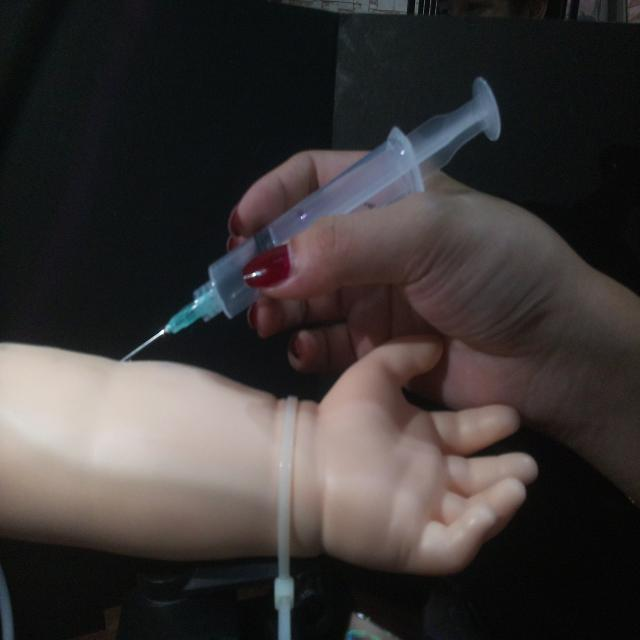30deg: (116, 71, 505, 365)
